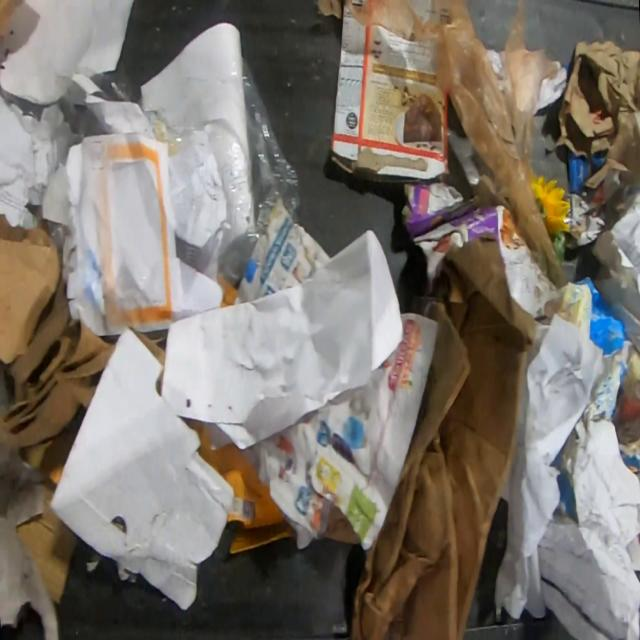cardboard: (347, 237, 536, 640), (50, 320, 237, 613), (0, 209, 116, 469), (400, 180, 560, 320), (329, 0, 450, 185), (546, 276, 640, 421), (555, 39, 640, 189), (407, 0, 432, 23)
soft_plastic: (344, 0, 567, 287), (135, 56, 301, 287), (44, 55, 140, 174)
